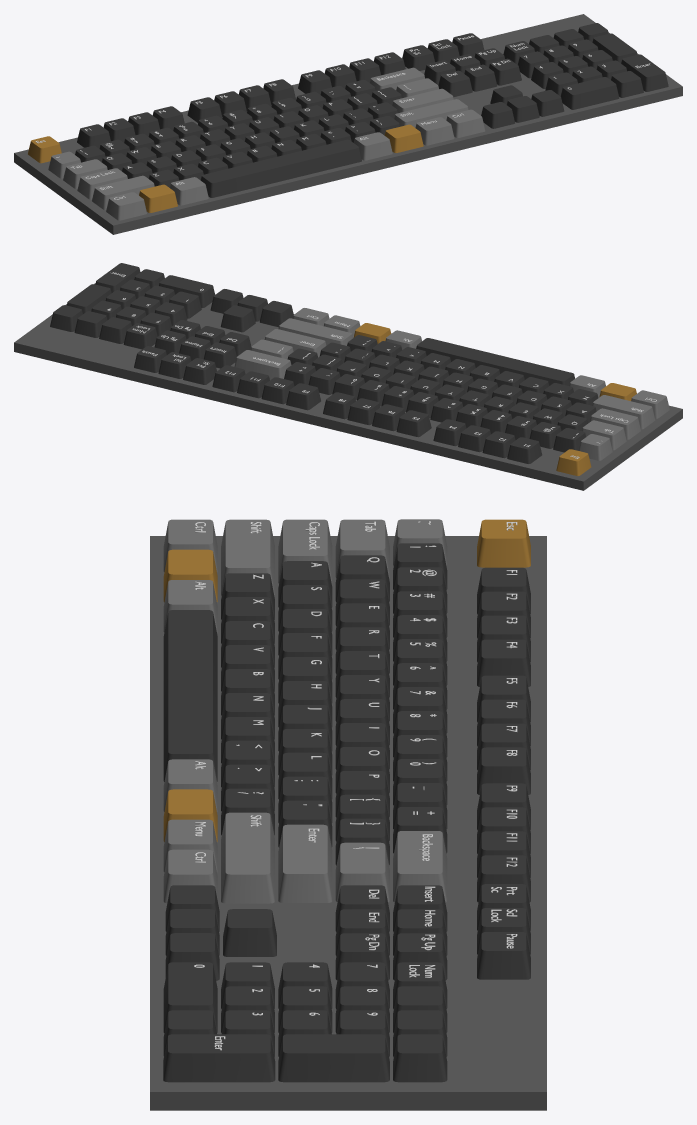
File: KEYBOARD.fbx
3 views of the same model, one above another, from view 1: azimuth 30°, elevation 25°; view 2: azimuth 150°, elevation 25°; view 3: azimuth 270°, elevation 25° (orthographic). The views are drawn at different scales.
Parts seen in each view (by area): view 1: Text; view 2: Text; view 3: Text.
Boxes of the visible parts, box(x1,y1,x2,y2) form: Text: box(14, 14, 682, 234); Text: box(14, 263, 682, 490); Text: box(150, 519, 546, 1110).
Bounding box in the file's own units: 505 × 19.54 × 152.
